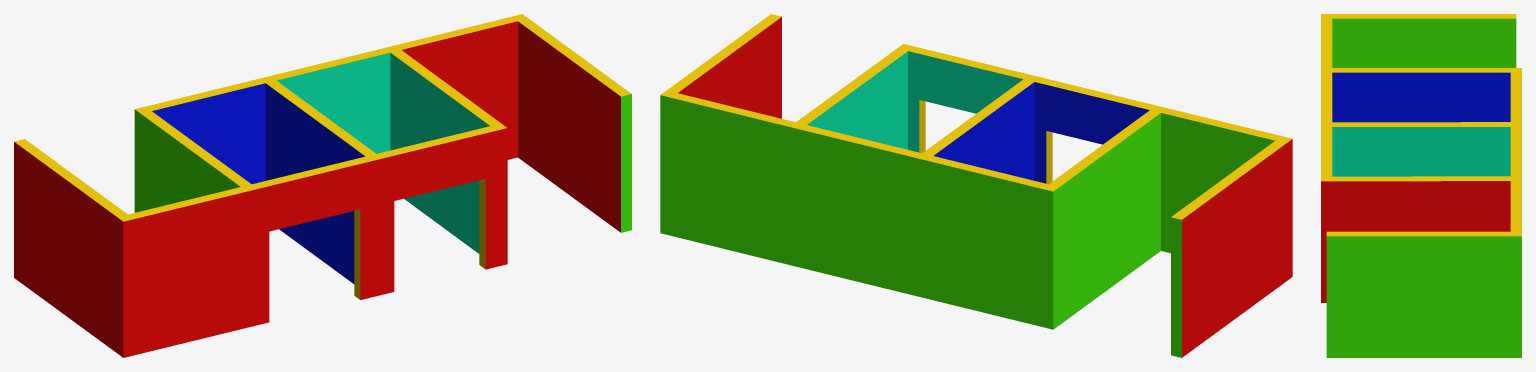
Rendered from BasementBankWall.FBX.
3 renders of one model, left to right at view 1: azimuth 30°, elevation 25°; view 2: azimuth 150°, elevation 25°; view 3: azimuth 270°, elevation 25°, orthographic. The views are drawn at different scales.
Visible parts, largest first — view 1: BasementBankWall; view 2: BasementBankWall; view 3: BasementBankWall.
Boxes of the visible parts, x1=… form: BasementBankWall: x1=14, y1=14, x2=631, y2=357; BasementBankWall: x1=660, y1=14, x2=1292, y2=357; BasementBankWall: x1=1321, y1=14, x2=1521, y2=357.
Size of the model in its own units: 1198 by 306 by 456.
